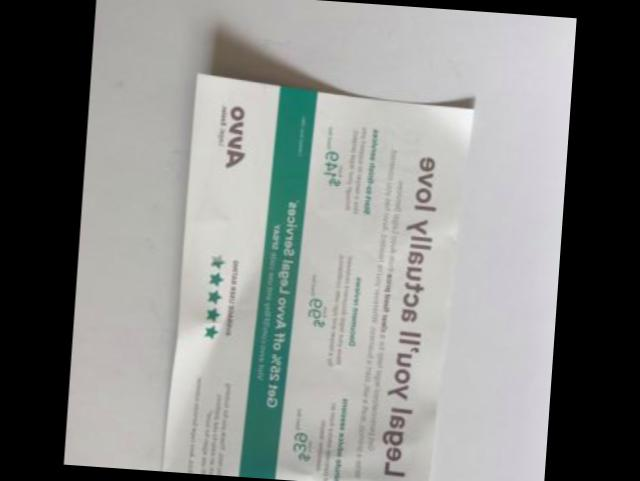cardboard paper: (165, 77, 475, 481)
